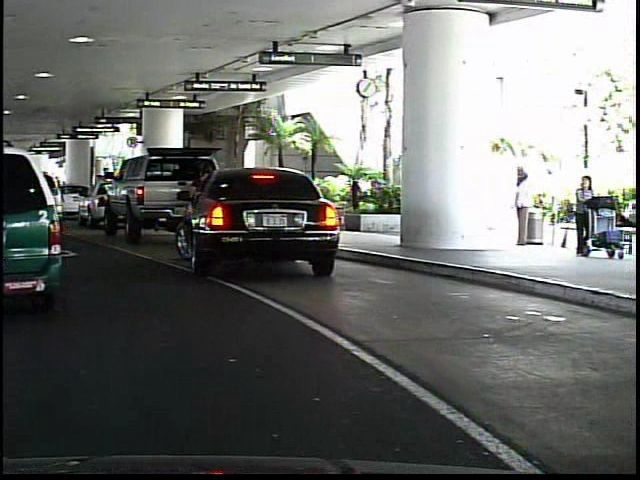person: (568, 168, 598, 262)
